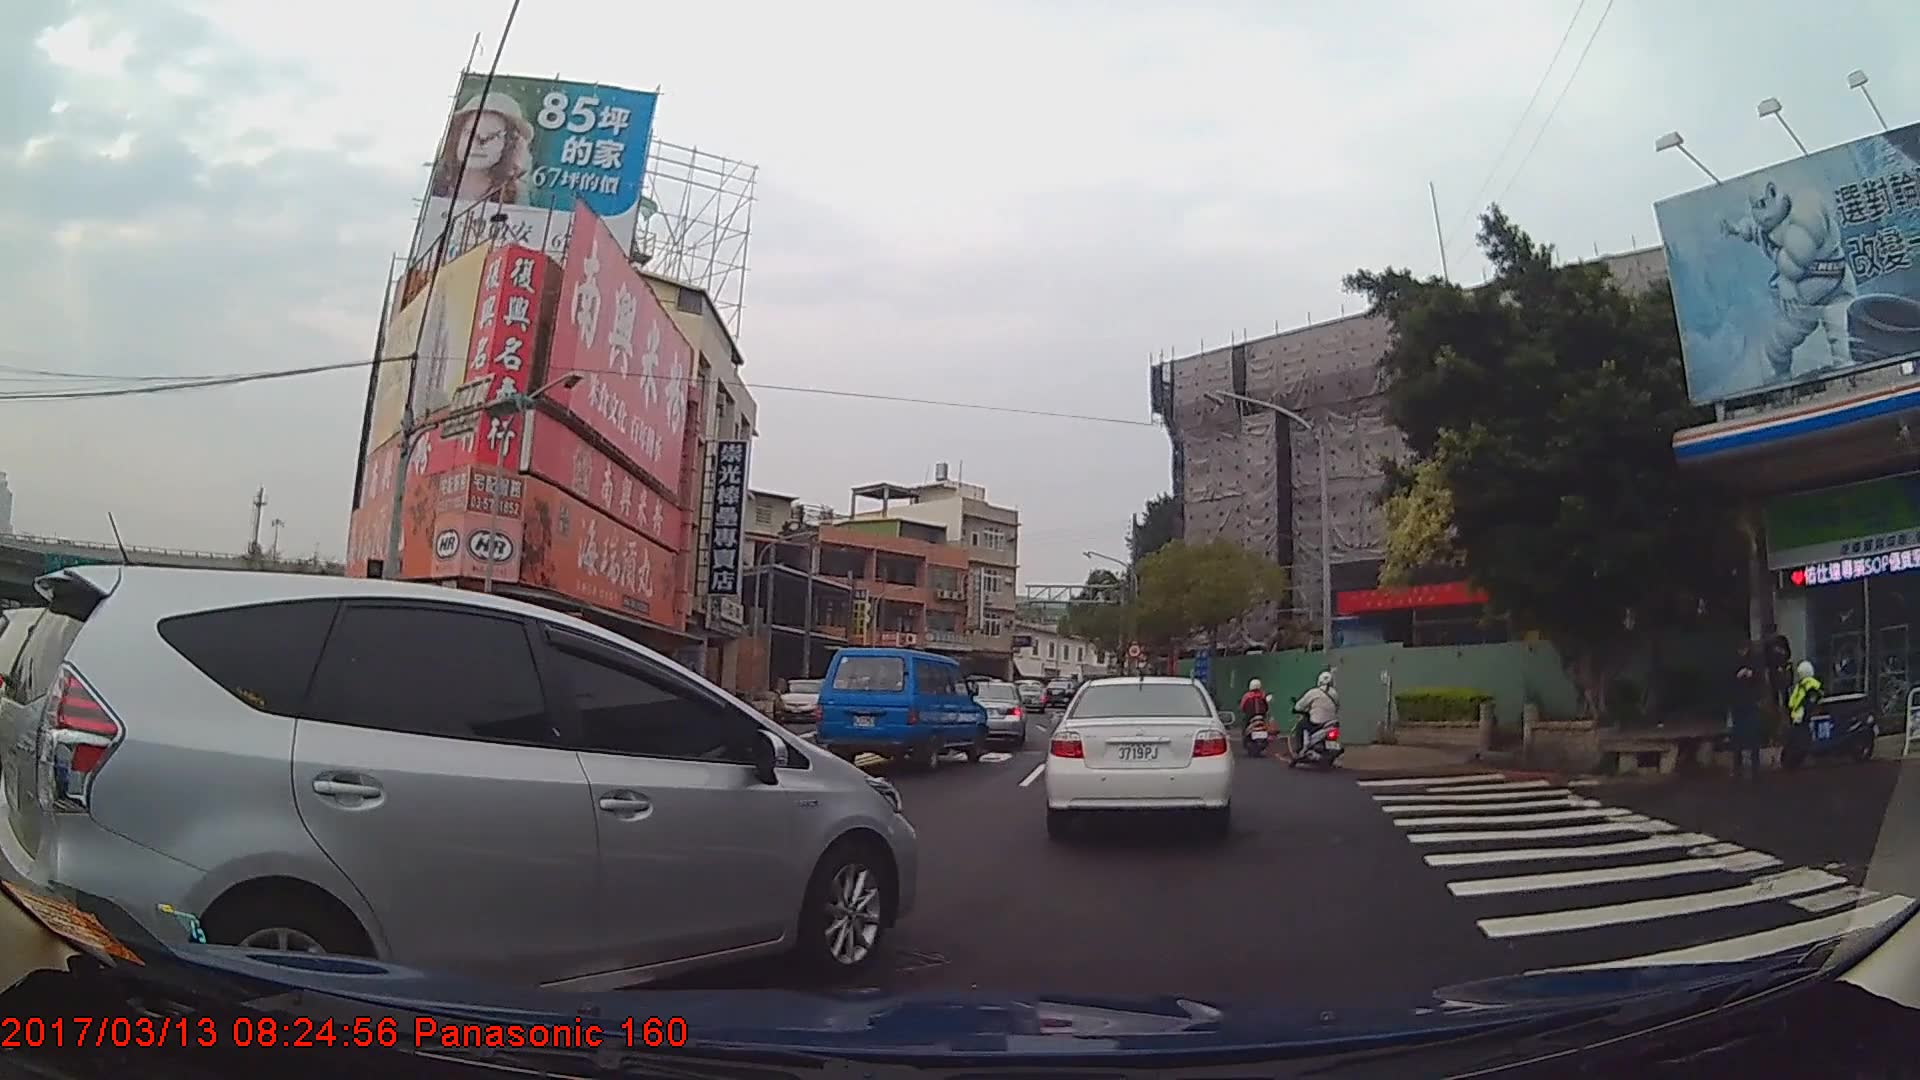pedestrian: (1725, 639, 1770, 775), (1757, 619, 1794, 726)
rider: (1293, 667, 1349, 767), (1241, 676, 1276, 754)
vehicle: (0, 565, 920, 1021), (1047, 672, 1240, 836), (814, 644, 989, 767), (957, 679, 1028, 747), (773, 675, 835, 724)
